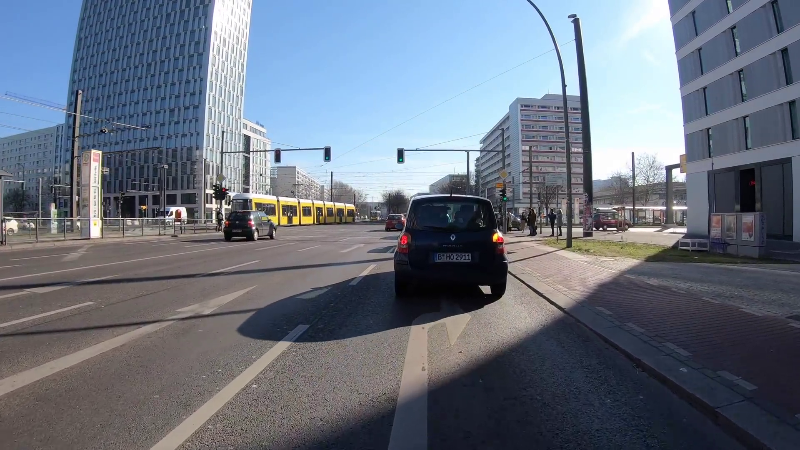Plate: (429, 251, 474, 265)
